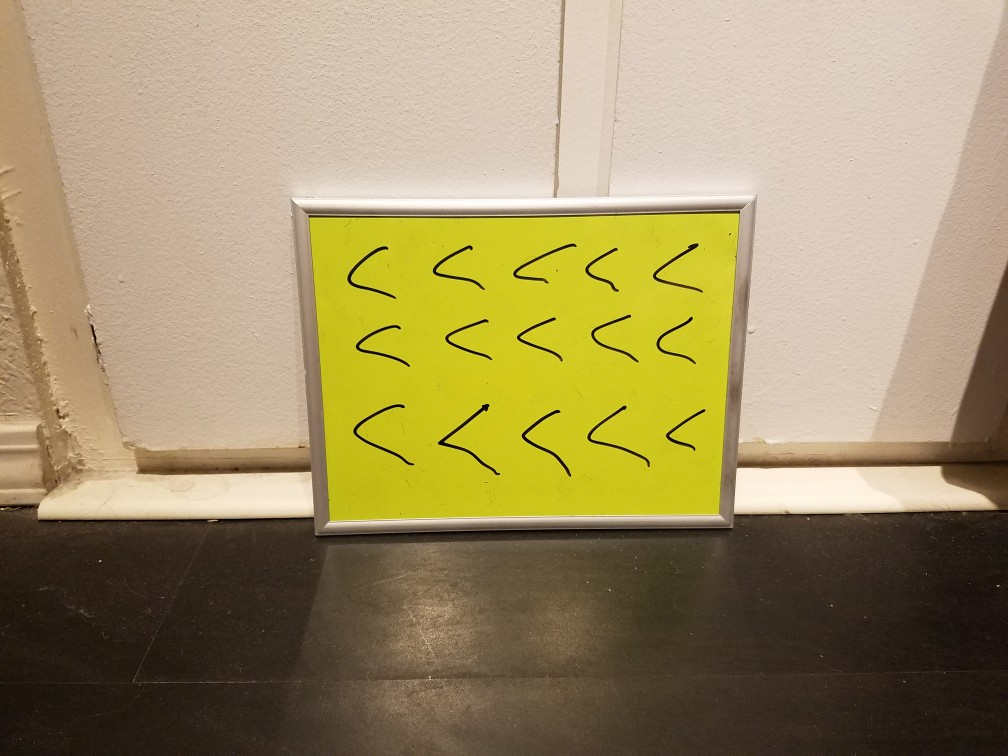<: (426, 387, 506, 492), (575, 385, 651, 474), (345, 387, 417, 474), (506, 400, 569, 497), (582, 307, 647, 387), (507, 236, 581, 304), (430, 311, 498, 376), (347, 316, 415, 379), (650, 234, 710, 303), (344, 240, 398, 312), (665, 391, 713, 462), (513, 309, 563, 377), (585, 241, 632, 304), (428, 238, 480, 292), (653, 306, 688, 371)
